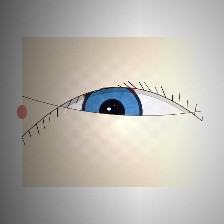hemorrhage_spot: (74, 67, 141, 121)
